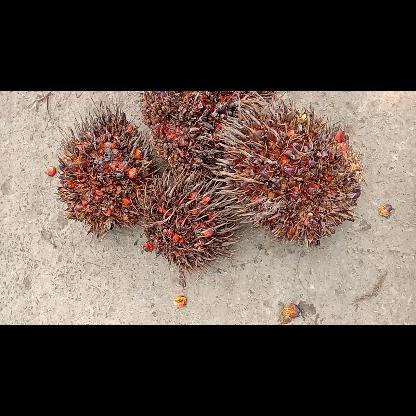Terlalu masak: (204, 96, 370, 250), (52, 99, 164, 237), (128, 163, 244, 271), (137, 90, 279, 176)
